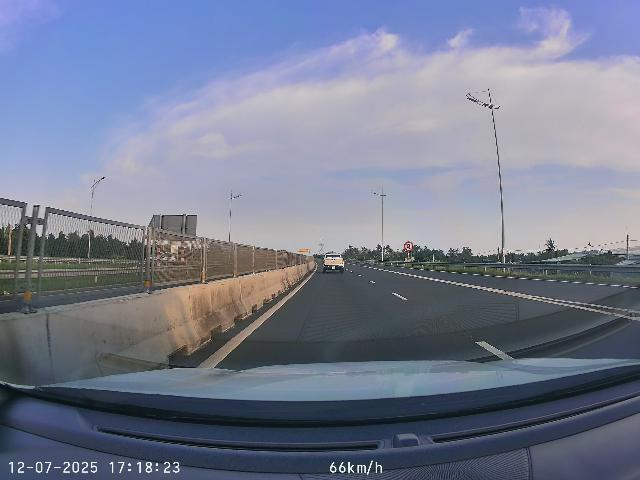124a-cam-quay-dau-xe: (404, 241, 414, 252)
